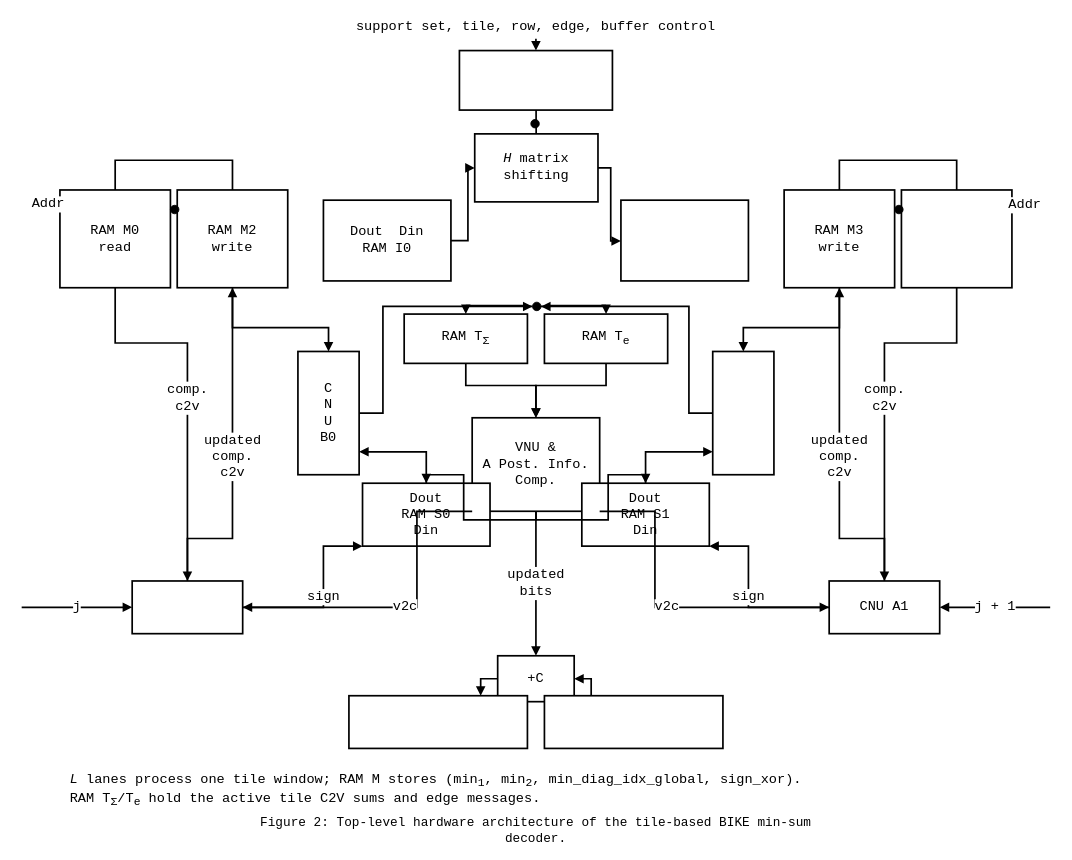
This 1072x860 diagram has some shape labels left out. Here are the shapes that lost their labels. From the top down, the box of each, then its label:
(458, 49, 613, 110): tile address generation
(620, 199, 749, 281): Din Dout RAM I1
(900, 189, 1012, 288): RAM M1 read
(711, 350, 774, 475): C N U B1
(131, 580, 243, 634): CNU A0
(348, 694, 528, 749): RAM C1 Data
(543, 694, 723, 749): Data RAM C0
